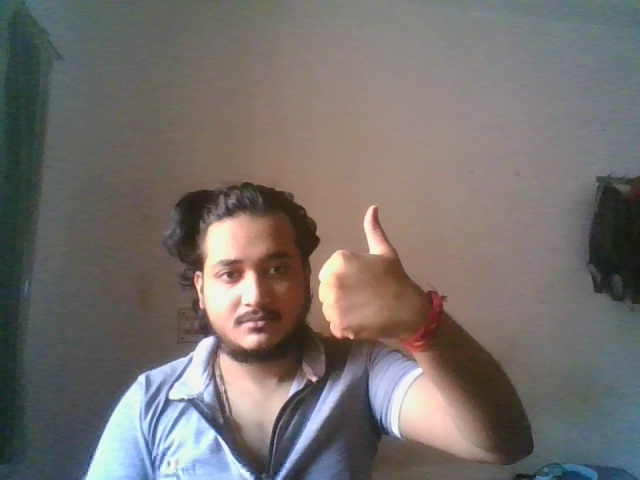ThumbsUp: (316, 204, 411, 343)
